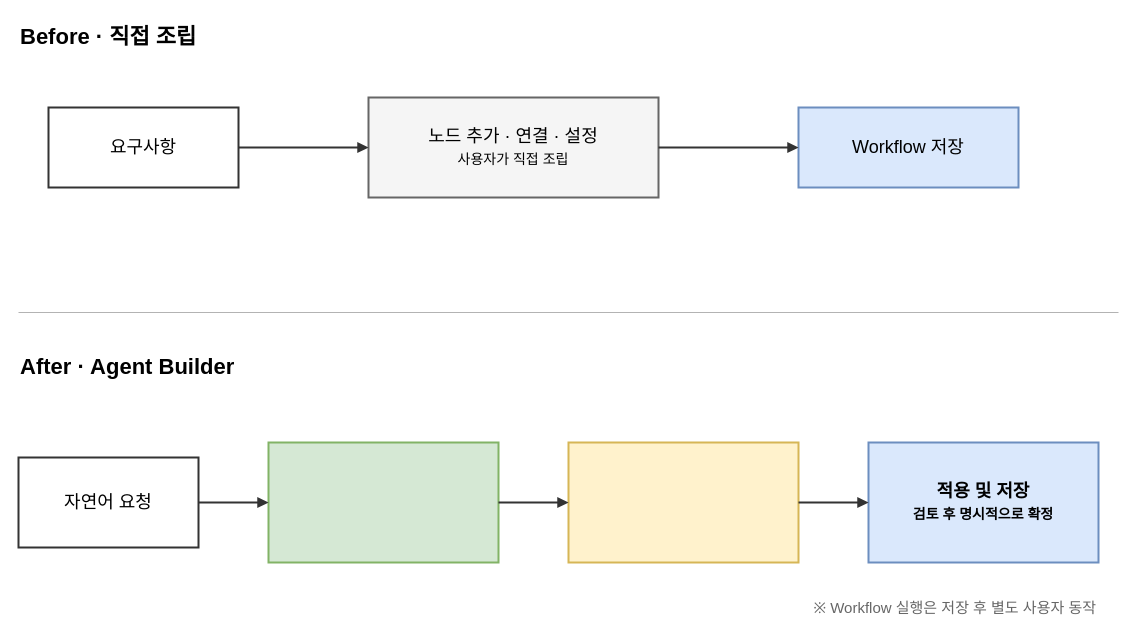
Image size: 1136x639. Some labels were removed from this diagram. Here are the shapes that lost their labels. From the top down, the centre of each, then its label:
At (x=383, y=502): "Agent Builder 노드 · 연결 · 설정 초안 생성".
At (x=683, y=502): "Workflow 초안 Preview에서 사용자 검토".
